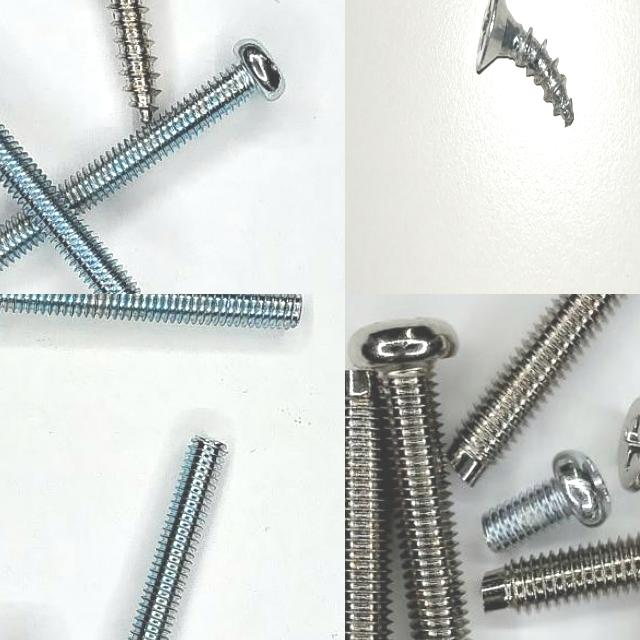Screw: (58, 40, 284, 214), (348, 319, 470, 640), (447, 294, 622, 485), (0, 123, 139, 294), (129, 436, 226, 640), (480, 451, 610, 551), (475, 0, 574, 125), (480, 534, 640, 611), (345, 370, 389, 640), (0, 294, 302, 329), (109, 0, 160, 124), (0, 213, 44, 272)
